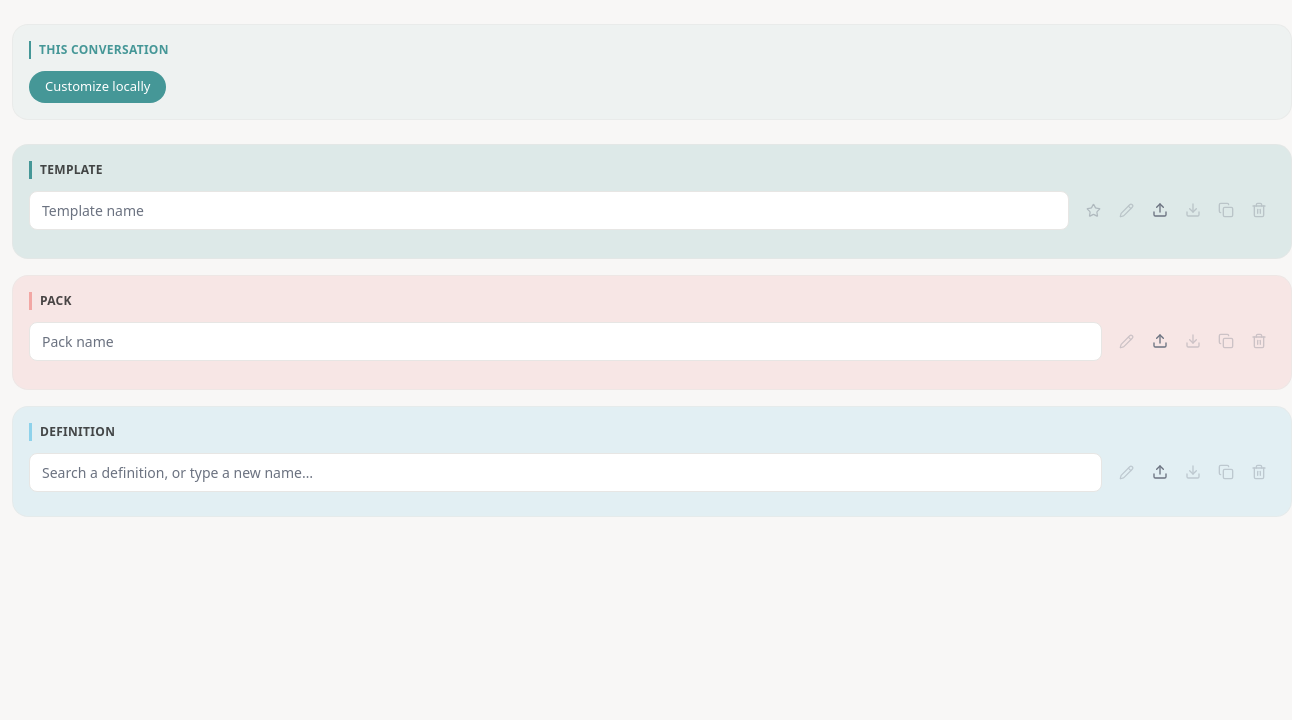
it: BookView scopes › still renders the per-chat local variables editor
What coordinates should you click on to do the following:
click the button with test id "customize-locally"
I would click on:
 (98, 87)
Its box is [29,71,166,102].
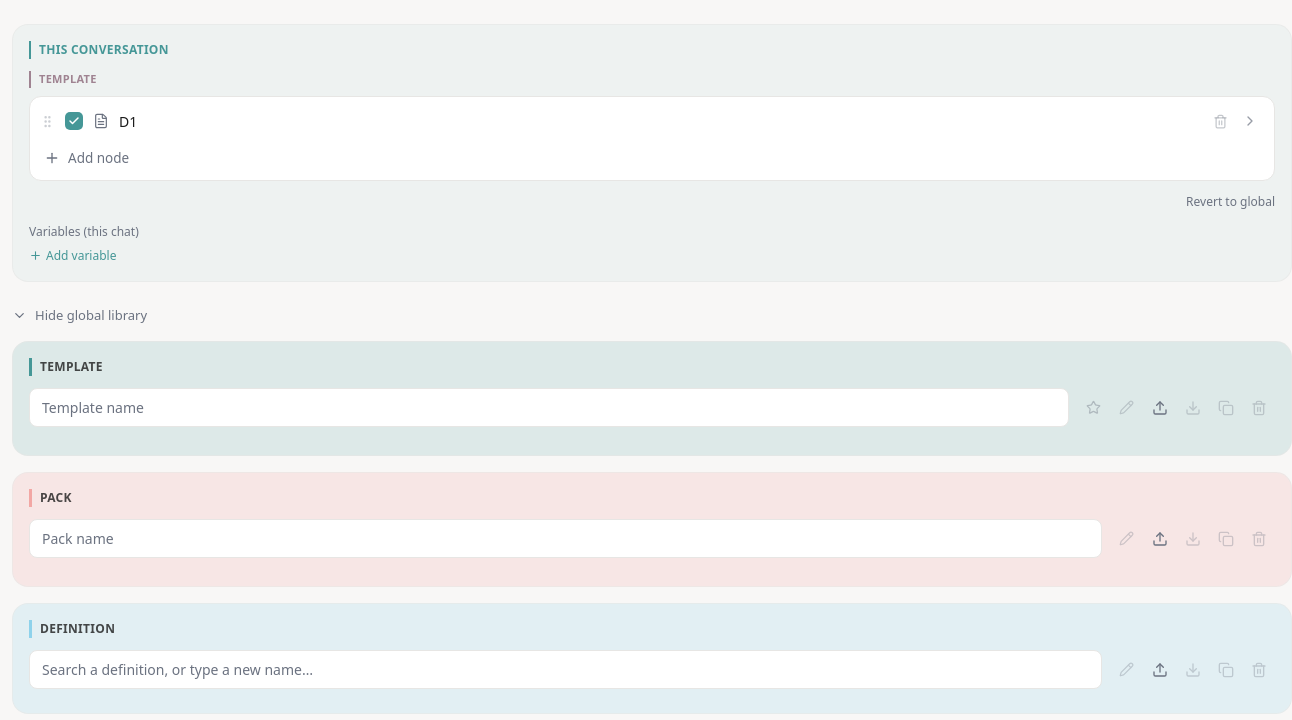
Result: the element with test id "local-variables" is shown at [29,223,139,265]
